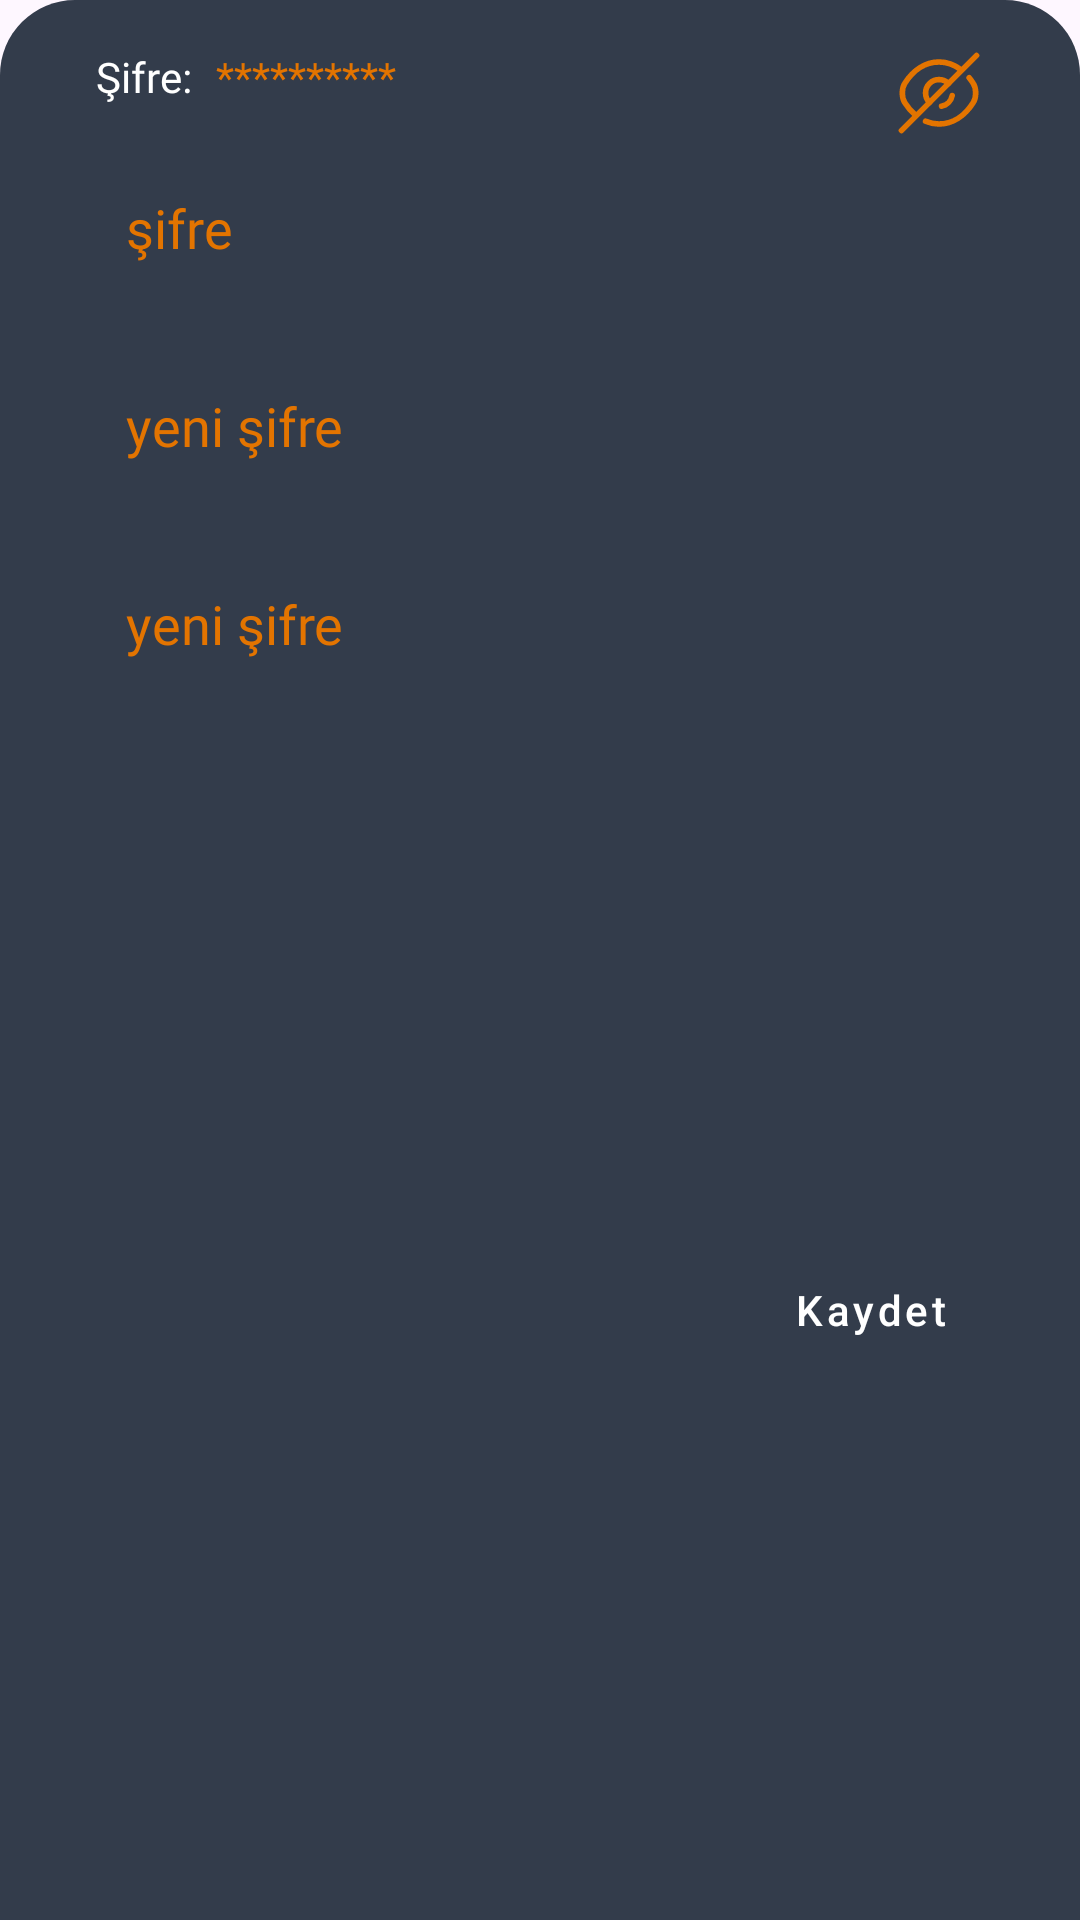

Point at icon controls on the screen. Image size 1080 x 1920, points as (x=x, y=y).
eye close: (x=939, y=93)
